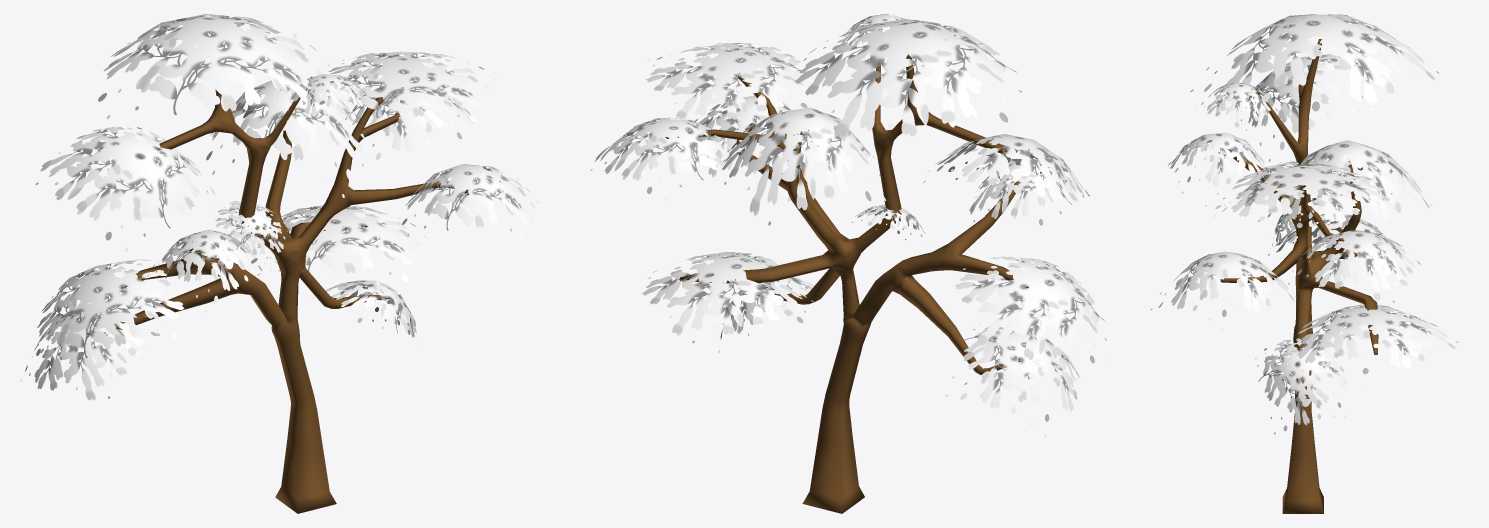
File: arvoreG2.fbx
The picture shows the model from 3 angles, left to right: view 1: azimuth 30°, elevation 25°; view 2: azimuth 150°, elevation 25°; view 3: azimuth 270°, elevation 25°; orthographic projection. The views are drawn at different scales.
Visible parts, largest first — view 1: ipe grande1; view 2: ipe grande1; view 3: ipe grande1.
Boxes of the visible parts, box(x1,y1,x2,y2) form: ipe grande1: box(20, 14, 539, 513); ipe grande1: box(590, 14, 1107, 513); ipe grande1: box(1151, 14, 1458, 513).
Bounding box in the file's own units: 672 × 652 × 443.
Materials: 2 (1 with a texture image).
